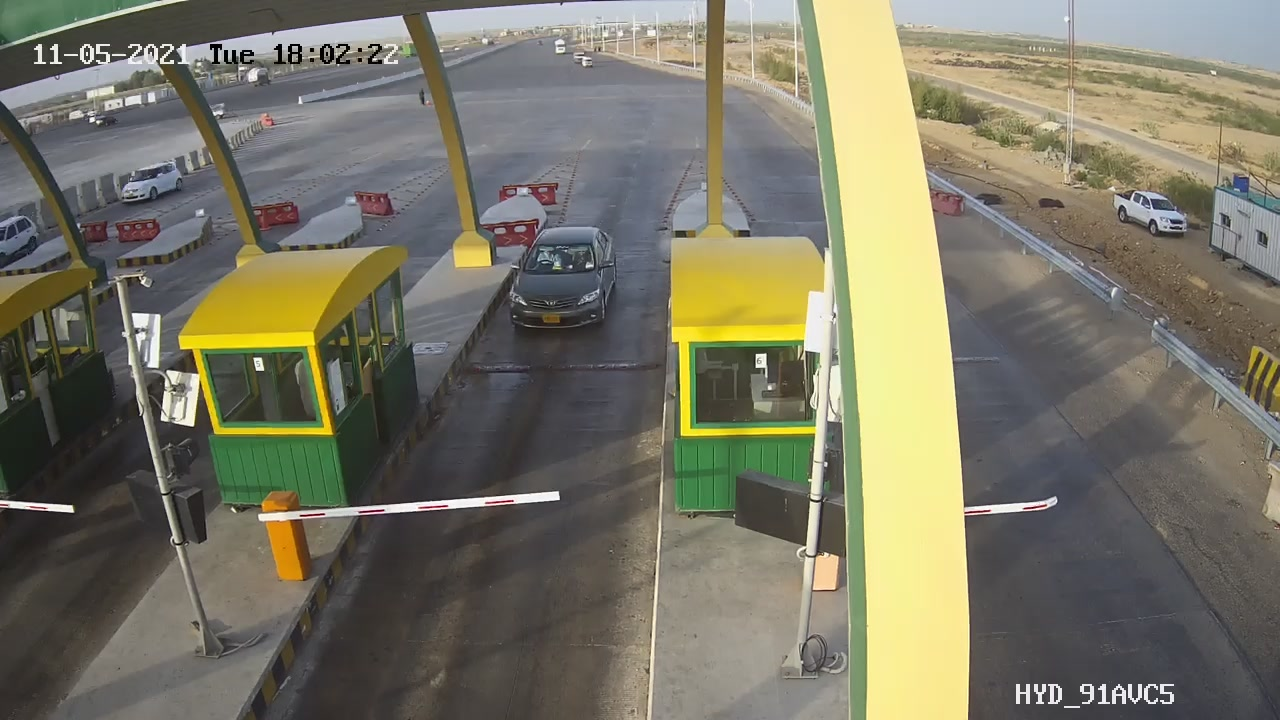F1: (496, 213, 634, 347)
